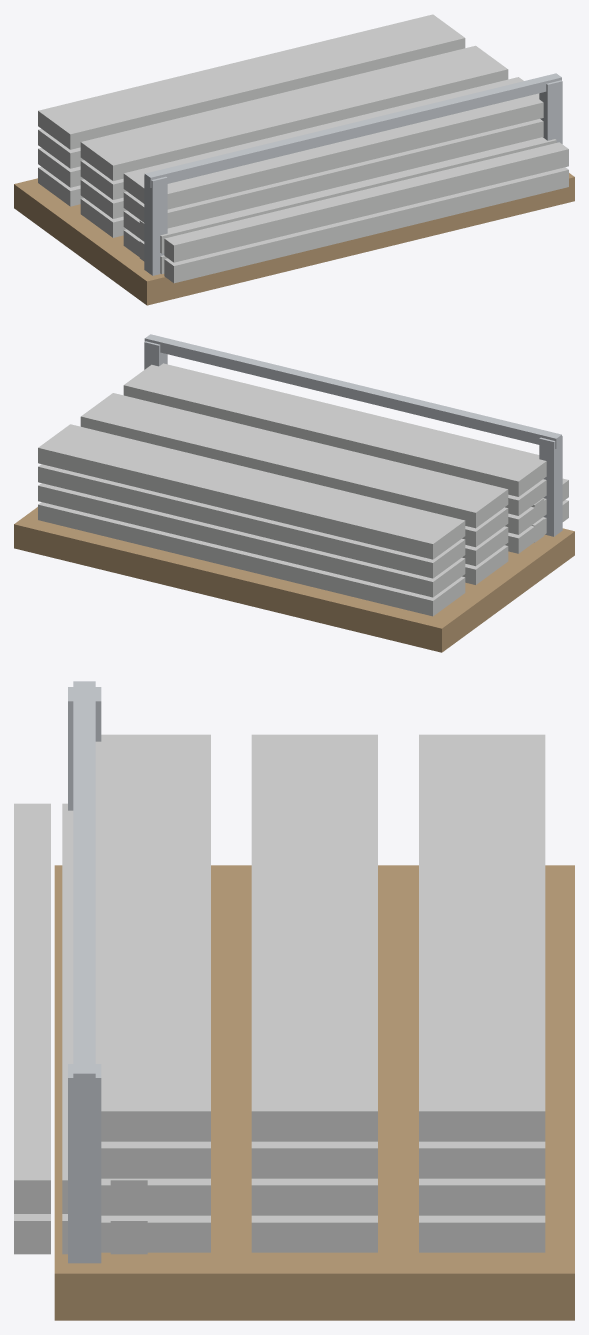
The model's file is racecourse-and-parade-ring-running-rail-store-stack-06646242__38644.glb.
The picture shows the model from 3 angles, top to bottom: view 1: azimuth 30°, elevation 25°; view 2: azimuth 150°, elevation 25°; view 3: azimuth 270°, elevation 25°; orthographic projection. The views are drawn at different scales.
Parts seen in each view (by area): view 1: running-rail-store-stack; view 2: running-rail-store-stack; view 3: running-rail-store-stack.
Boxes of the visible parts, <box> form: running-rail-store-stack: <box>14,14,574,305</box>; running-rail-store-stack: <box>14,334,574,652</box>; running-rail-store-stack: <box>14,681,574,1320</box>.
Size of the model in its own units: 2.6 by 0.7099 by 1.51.
